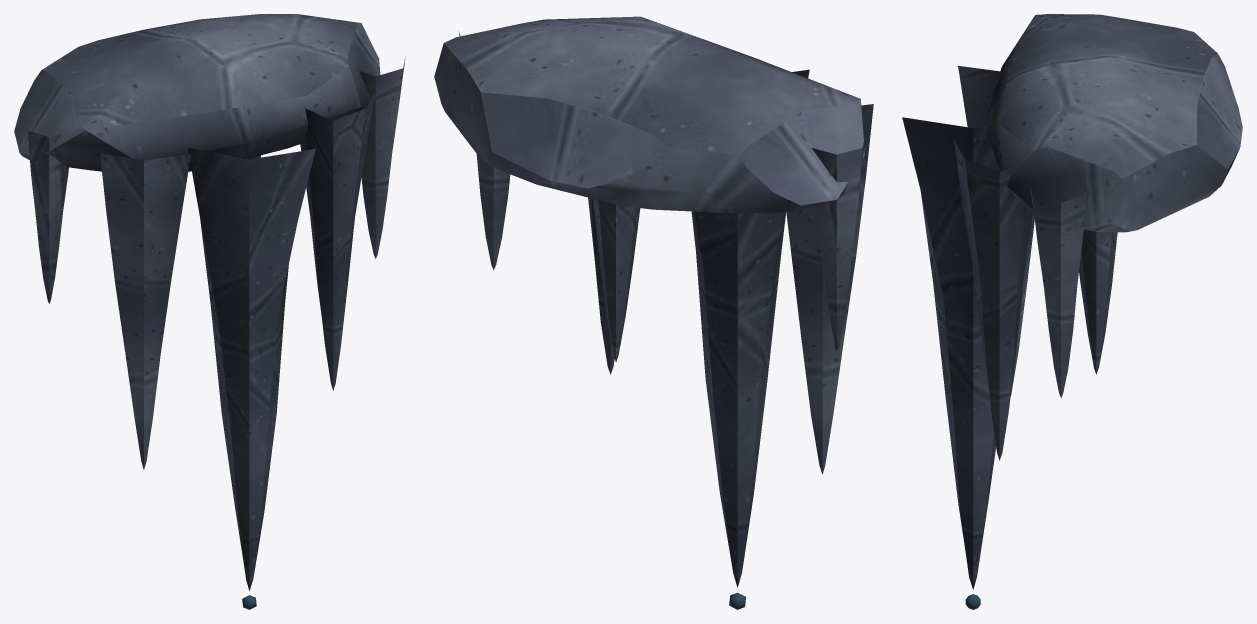
File: cave_stalactite.glb
The picture shows the model from 3 angles, left to right: view 1: azimuth 30°, elevation 25°; view 2: azimuth 150°, elevation 25°; view 3: azimuth 270°, elevation 25°; orthographic projection. The views are drawn at different scales.
Parts seen in each view (by area): view 1: cave_stalactite; view 2: cave_stalactite; view 3: cave_stalactite.
Part boxes in pixels (x1,y1,x2,y2): cave_stalactite: (14, 14, 405, 609); cave_stalactite: (434, 16, 873, 609); cave_stalactite: (902, 14, 1242, 609).
Size of the model in its own units: 1.01 by 1.4 by 0.7749.
2 materials, 1 textured.
